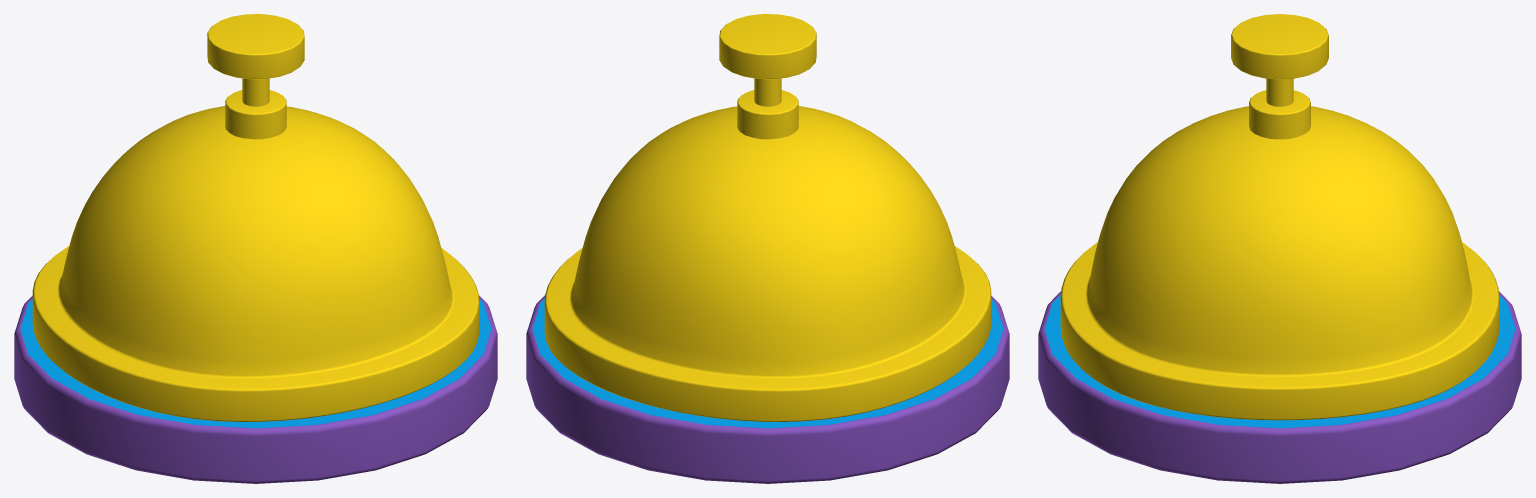
File: Public_7_Table_Bell_1.glb
3 views of the same model, side by side, from view 1: azimuth 30°, elevation 25°; view 2: azimuth 150°, elevation 25°; view 3: azimuth 270°, elevation 25° (orthographic).
Parts seen in each view (by area): view 1: Public_7_Table_Bell_1; view 2: Public_7_Table_Bell_1; view 3: Public_7_Table_Bell_1.
Part boxes in pixels (x1,y1,x2,y2): Public_7_Table_Bell_1: (14, 14, 497, 483); Public_7_Table_Bell_1: (526, 14, 1009, 483); Public_7_Table_Bell_1: (1038, 14, 1521, 483).
Bounding box in the file's own units: 3.93 × 3.14 × 3.93.
1 material, 1 textured.
